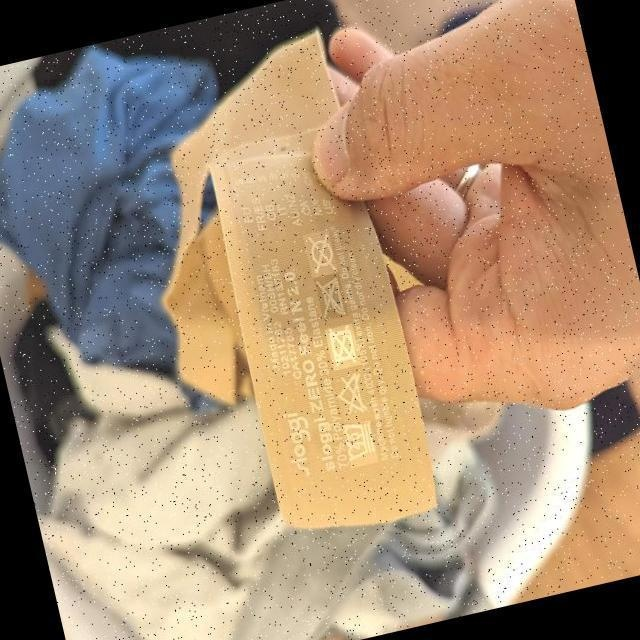40C: (345, 421, 376, 463)
DN_bleach: (339, 373, 366, 415)
DN_dry_clean: (309, 235, 336, 276)
DN_iron: (318, 279, 345, 321)
DN_tumble_dry: (331, 326, 357, 368)
